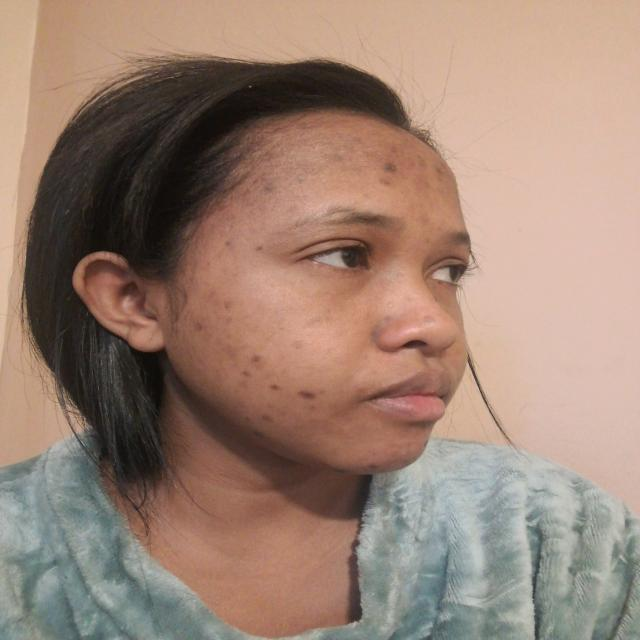Acne: (186, 277, 253, 325), (259, 153, 314, 204), (285, 380, 342, 423), (228, 340, 278, 388), (382, 143, 426, 192), (414, 302, 462, 339), (238, 410, 279, 438)
